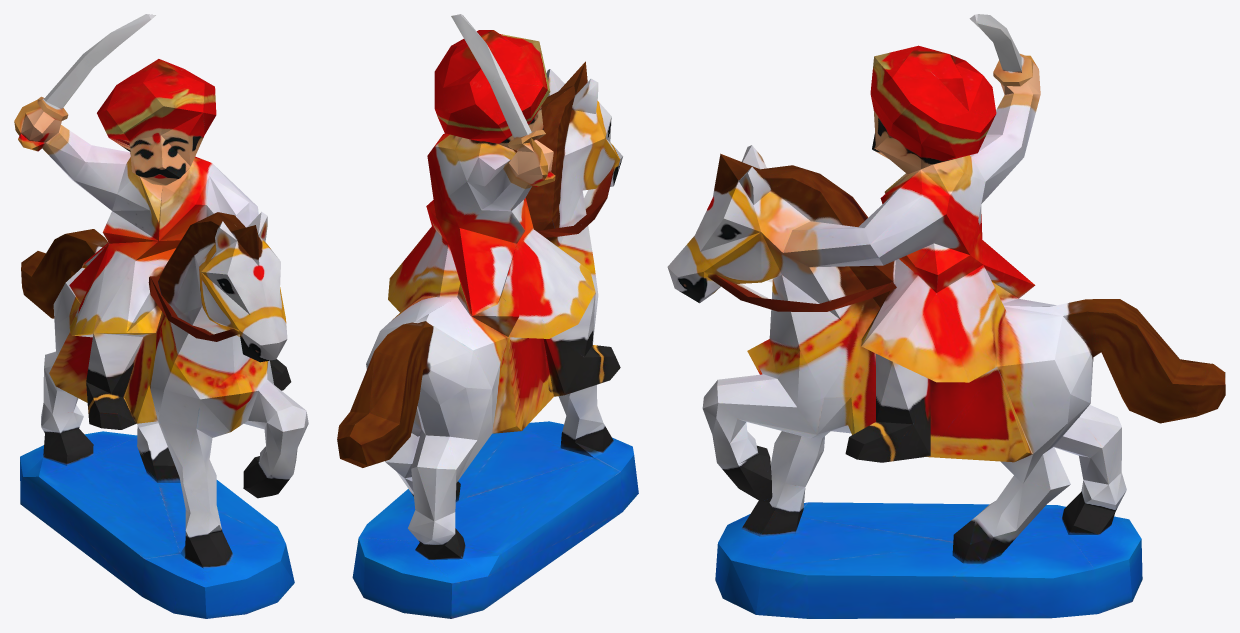
The model's file is horse rider.glb.
3 views of the same model, side by side, from view 1: azimuth 30°, elevation 25°; view 2: azimuth 150°, elevation 25°; view 3: azimuth 270°, elevation 25° (orthographic). The views are drawn at different scales.
Parts seen in each view (by area): view 1: mesh_000; view 2: mesh_000; view 3: mesh_000.
Boxes of the visible parts, <box> form: mesh_000: <box>14,14,308,618</box>; mesh_000: <box>337,14,638,618</box>; mesh_000: <box>667,14,1225,618</box>.
Bounding box in the file's own units: 0.3887 × 0.9531 × 0.8374.
Materials: 1 (1 with a texture image).
